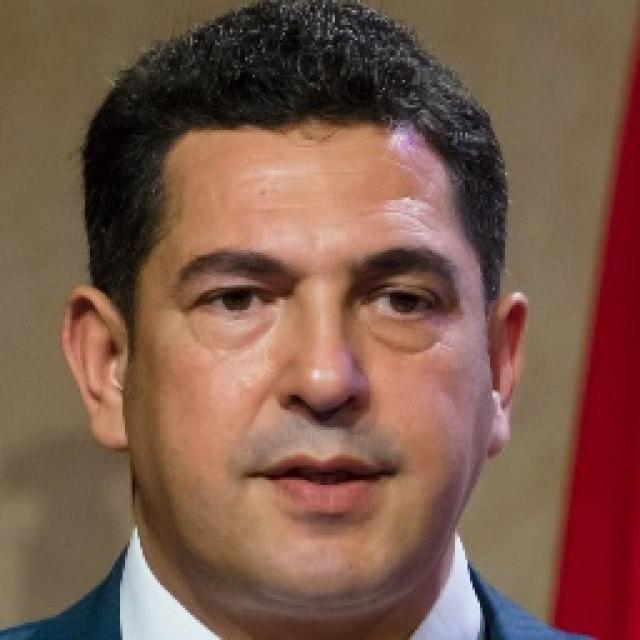earlobe: (88, 394, 132, 452), (482, 405, 514, 461)
eye: (190, 279, 276, 321), (362, 287, 446, 322)
nose: (278, 395, 369, 449)
wholeear: (61, 284, 132, 452), (482, 293, 528, 461)
